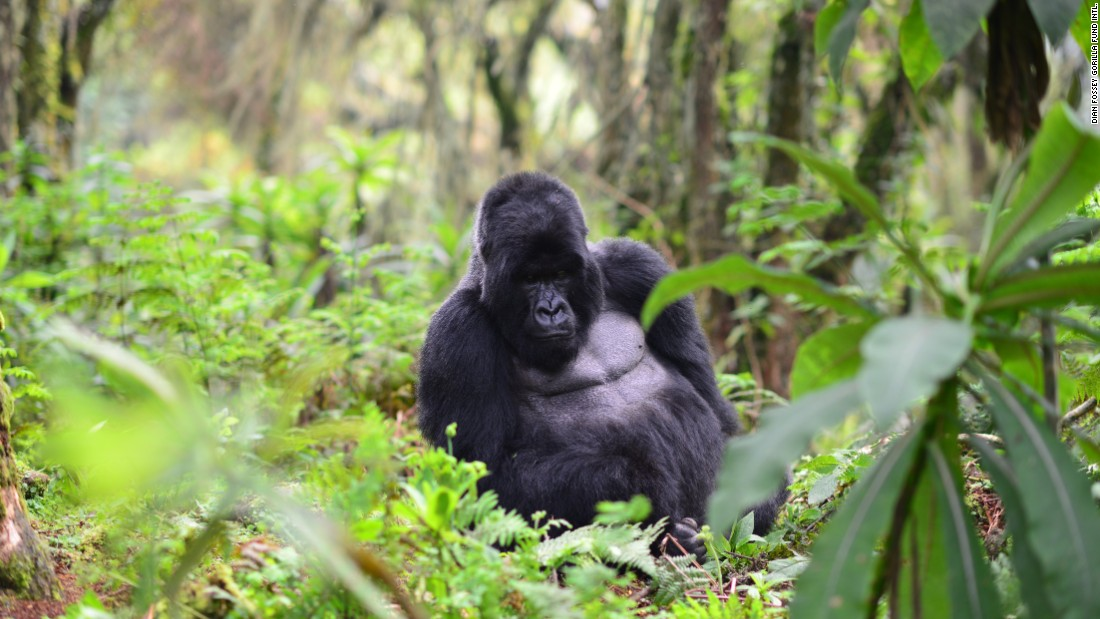Goriila: (402, 138, 759, 559)
